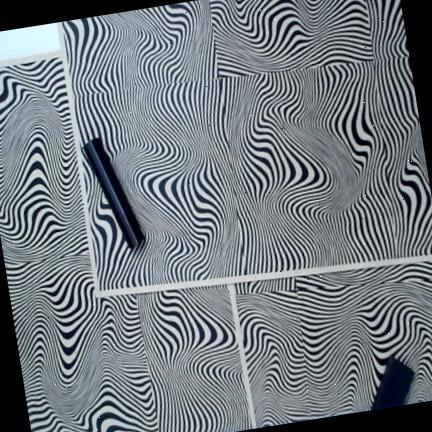Cilindro: (83, 137, 144, 248)
Paralelepipedo: (371, 357, 415, 409)
